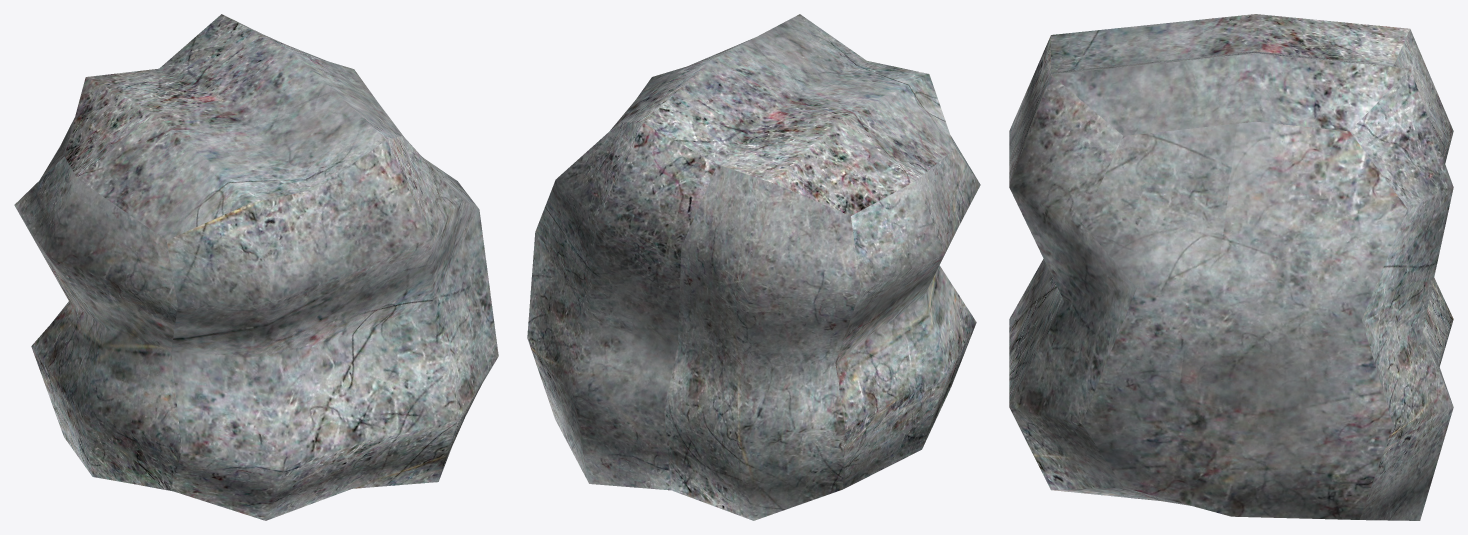
The model's file is Lint.fbx.
3 views of the same model, side by side, from view 1: azimuth 30°, elevation 25°; view 2: azimuth 150°, elevation 25°; view 3: azimuth 270°, elevation 25° (orthographic). The views are drawn at different scales.
Visible parts, largest first — view 1: Lint_Geo; view 2: Lint_Geo; view 3: Lint_Geo.
Boxes of the visible parts, left/top/right/bottom form: Lint_Geo: left=14, top=14, right=498, bottom=520; Lint_Geo: left=527, top=14, right=980, bottom=520; Lint_Geo: left=1009, top=14, right=1453, bottom=520.
Size of the model in its own units: 22.1 by 21.75 by 19.95.
